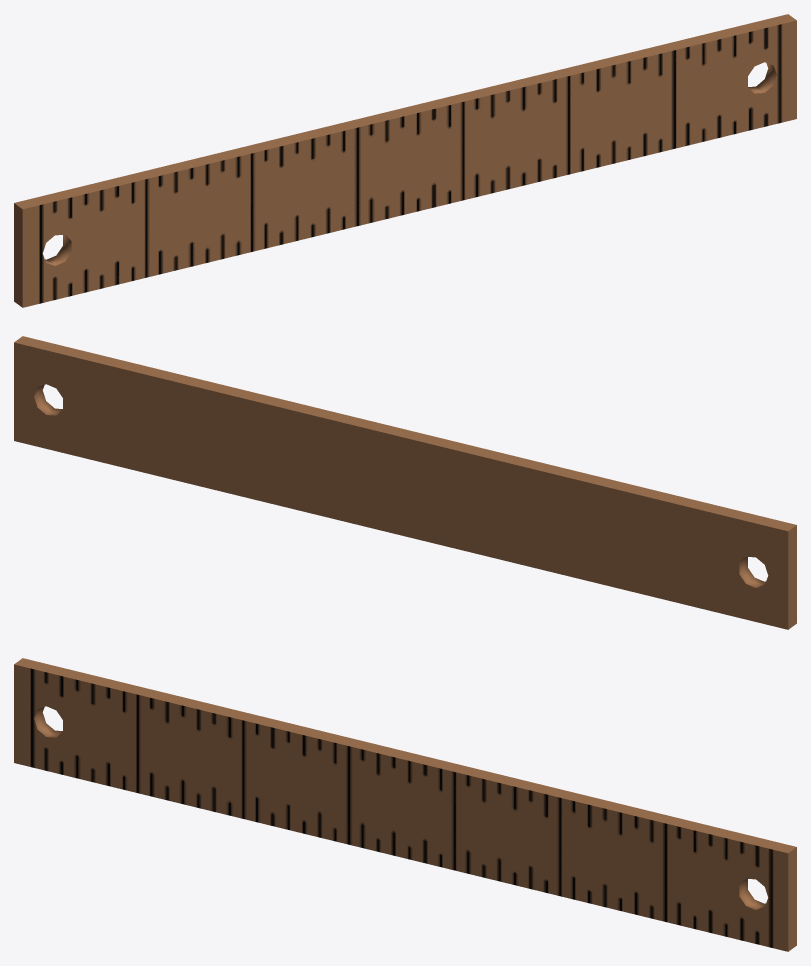
Rendered from Ruller.fbx.
3 renders of one model, top to bottom at view 1: azimuth 30°, elevation 25°; view 2: azimuth 150°, elevation 25°; view 3: azimuth 330°, elevation 25°, orthographic.
Visible parts, largest first — view 1: Ruller; view 2: Ruller; view 3: Ruller.
Part boxes in pixels (<box>): Ruller: <box>14,14,796,307</box>; Ruller: <box>14,336,796,629</box>; Ruller: <box>14,658,796,951</box>.
Size of the model in its own units: 0.4383 by 0.0533 by 0.00856.
